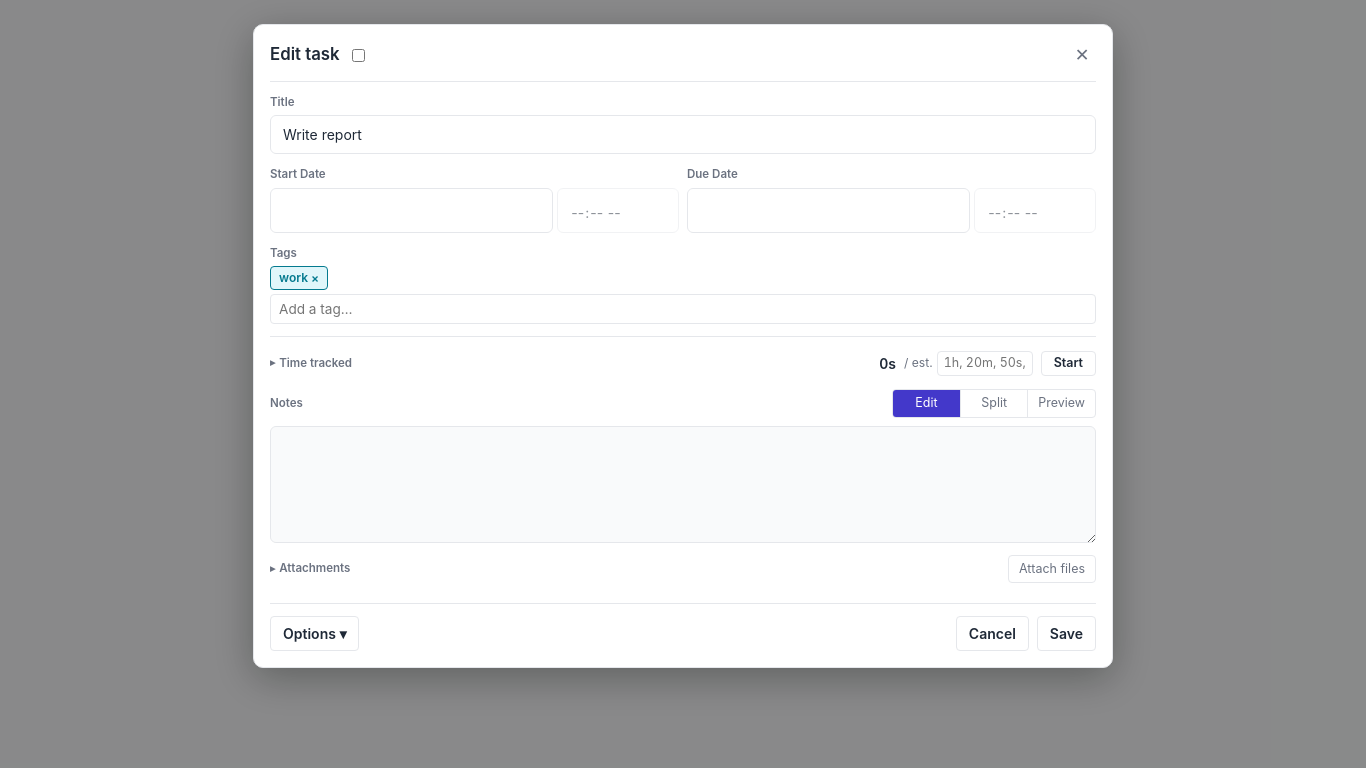
Test: TaskEditor estimated time › blocks Save when estimated seconds are invalid
This screenshot has width=1366, height=768.
Type "0" into the field named "Estimated time".
click(985, 363); type("0")  # box [937,351,1033,376]
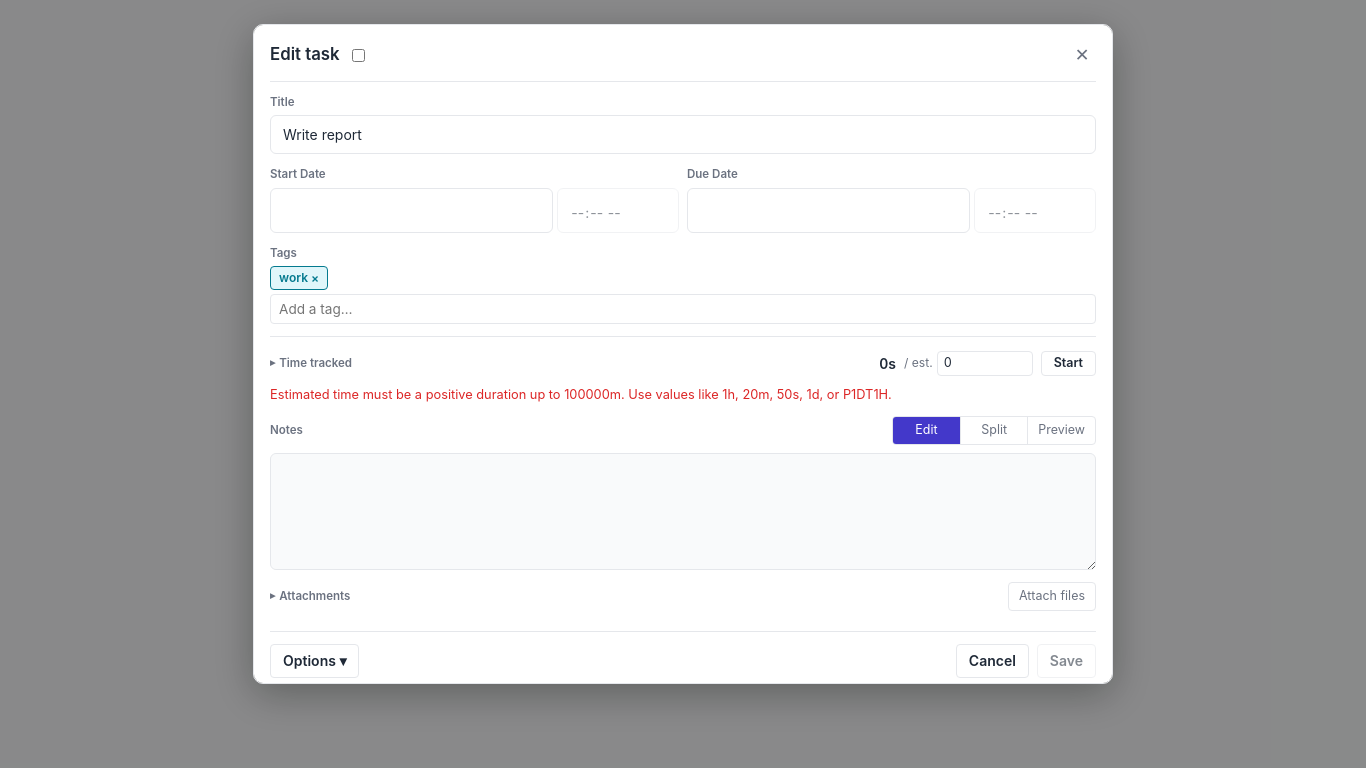
Check: the text "Estimated time must be" is shown, box [270,387,892,402]
Check: the button "Save" is disabled, box [1037,644,1096,678]
